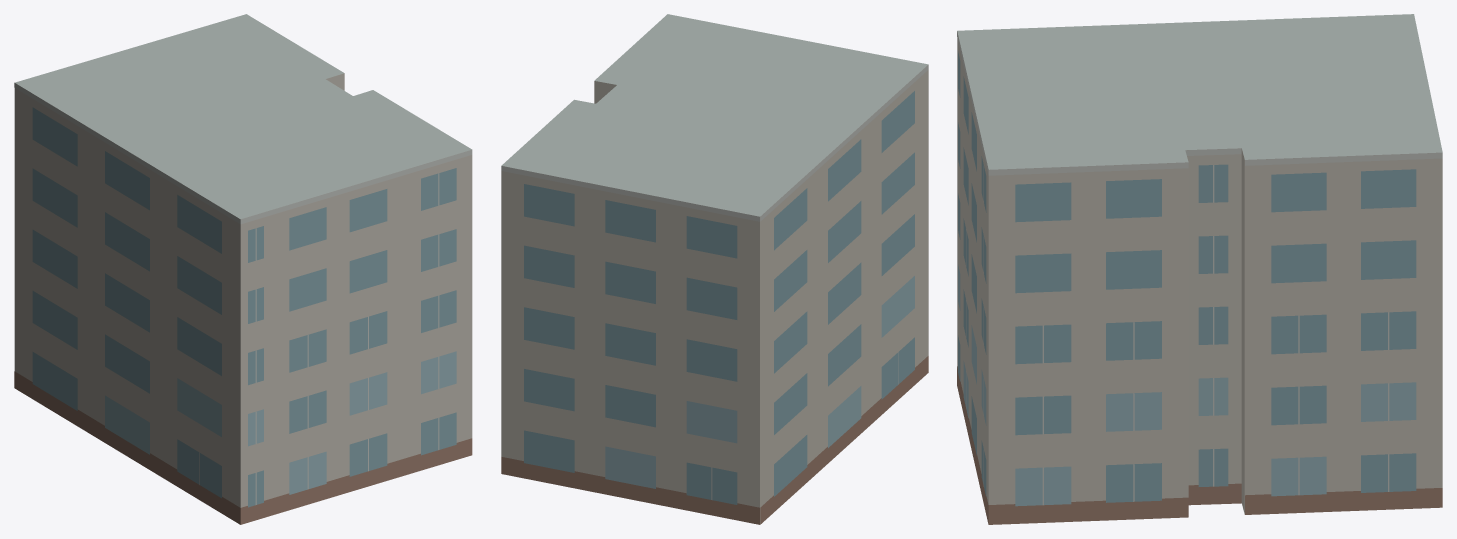
Rendered from survey-upis-32663451.glb.
3 views of the same model, side by side, from view 1: azimuth 30°, elevation 25°; view 2: azimuth 150°, elevation 25°; view 3: azimuth 270°, elevation 25° (orthographic). The views are drawn at different scales.
Parts seen in each view (by area): view 1: survey-upis-32663451.tmp; view 2: survey-upis-32663451.tmp; view 3: survey-upis-32663451.tmp.
Part boxes in pixels (box(x1,y1,x2,y2)): survey-upis-32663451.tmp: box(14, 14, 472, 524); survey-upis-32663451.tmp: box(501, 14, 928, 524); survey-upis-32663451.tmp: box(957, 14, 1442, 524).
Bounding box in the file's own units: 13.75 × 14.6 × 18.11.
